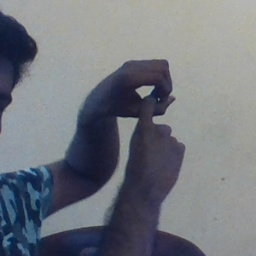Q: (97, 53, 194, 179)
